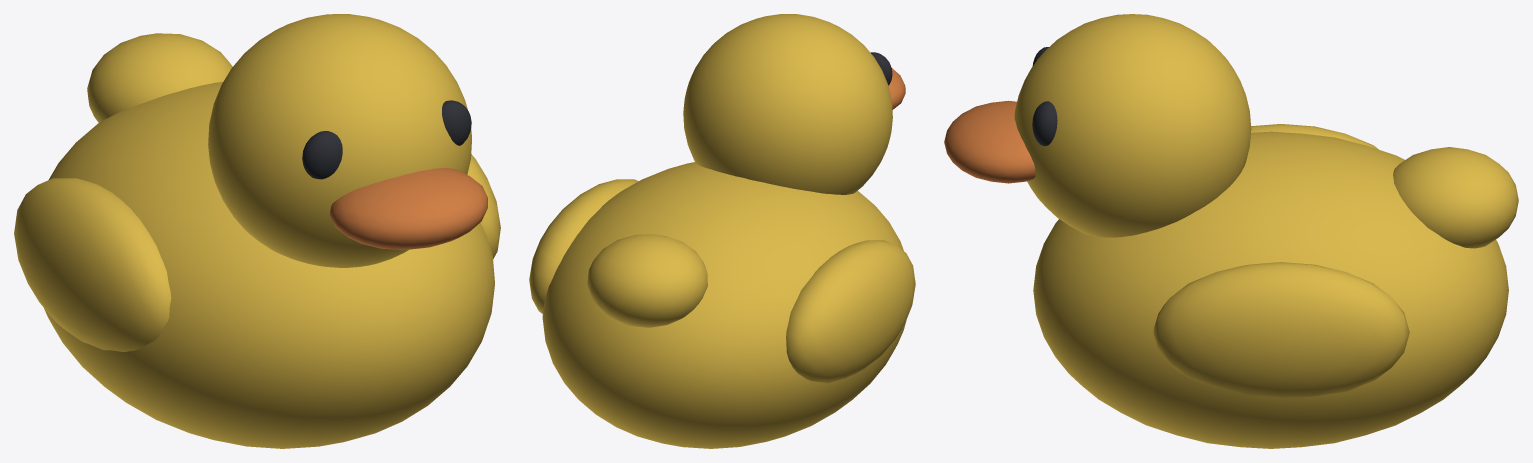
Rendered from items_upload_b2.glb.
The picture shows the model from 3 angles, left to right: view 1: azimuth 30°, elevation 25°; view 2: azimuth 150°, elevation 25°; view 3: azimuth 270°, elevation 25°; orthographic projection. The views are drawn at different scales.
Parts seen in each view (by area): view 1: duck_body__pd6b445, duck_beak__pc9773d, duck_eye__p2b2d33; view 2: duck_body__pd6b445, duck_beak__pc9773d; view 3: duck_body__pd6b445, duck_beak__pc9773d, duck_eye__p2b2d33.
Part boxes in pixels (x1,y1,x2,y2): duck_body__pd6b445: [14, 14, 500, 448]; duck_beak__pc9773d: [330, 167, 487, 249]; duck_eye__p2b2d33: [302, 100, 471, 179]; duck_body__pd6b445: [529, 14, 915, 448]; duck_beak__pc9773d: [888, 68, 905, 109]; duck_body__pd6b445: [1014, 14, 1518, 448]; duck_beak__pc9773d: [944, 100, 1035, 183]; duck_eye__p2b2d33: [1032, 47, 1057, 146].
Bounding box in the file's own units: 4.3 × 4.45 × 5.8.
